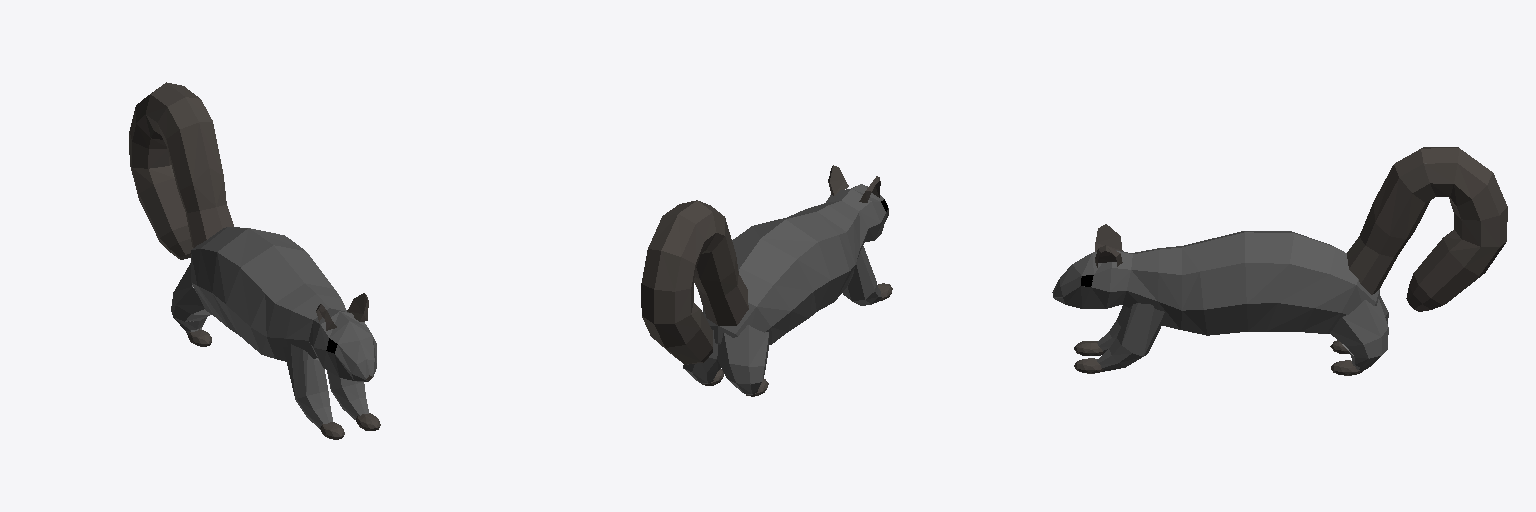
3 views of the same model, side by side, from view 1: azimuth 30°, elevation 25°; view 2: azimuth 150°, elevation 25°; view 3: azimuth 270°, elevation 25° (orthographic).
Visible parts, largest first — view 1: Squirrel; view 2: Squirrel; view 3: Squirrel.
Part boxes in pixels (bbox=[...]): Squirrel: bbox=[129, 82, 380, 439]; Squirrel: bbox=[641, 165, 892, 396]; Squirrel: bbox=[1052, 147, 1507, 375].
Size of the model in its own units: 1.84 by 4.07 by 7.78.
1 materials, 1 textured.